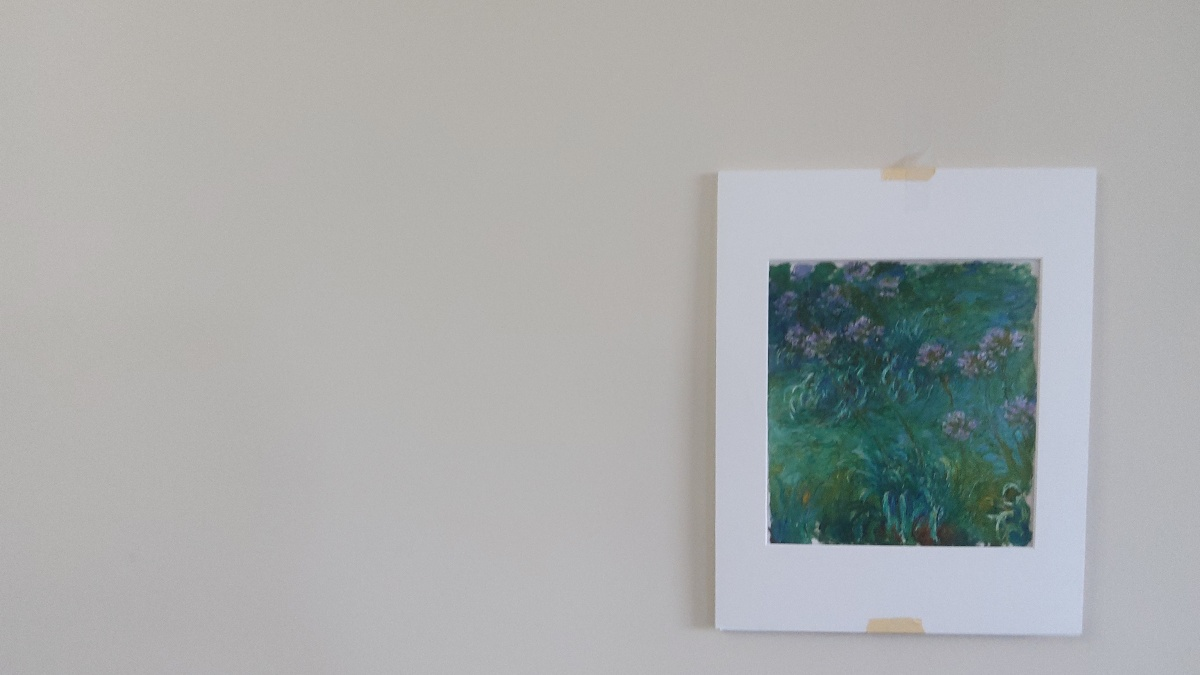painting: (754, 246, 1044, 559)
